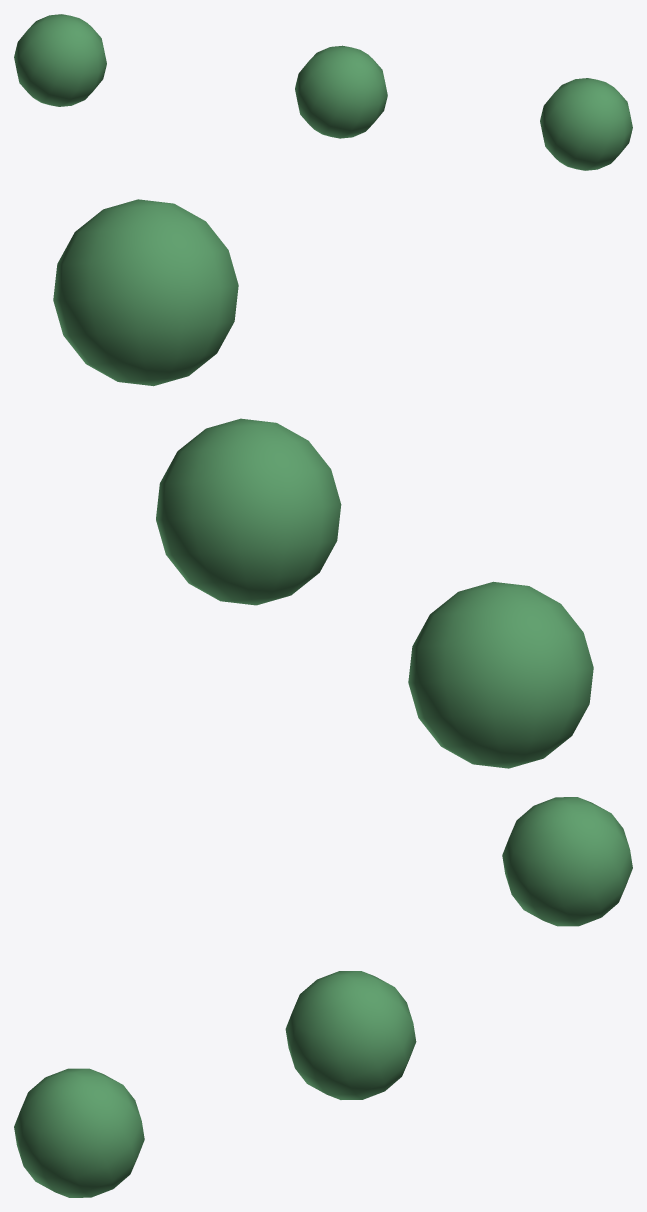
The picture shows the model from 3 angles, top to bottom: view 1: azimuth 30°, elevation 25°; view 2: azimuth 150°, elevation 25°; view 3: azimuth 270°, elevation 25°; orthographic projection. The views are drawn at different scales.
Visible parts, largest first — view 1: 左侧腹股沟浅淋巴结上外侧群; view 2: 左侧腹股沟浅淋巴结上外侧群; view 3: 左侧腹股沟浅淋巴结上外侧群.
Part boxes in pixels (box(x1,y1,x2,y2)): 左侧腹股沟浅淋巴结上外侧群: box(14, 14, 632, 170); 左侧腹股沟浅淋巴结上外侧群: box(53, 199, 593, 768); 左侧腹股沟浅淋巴结上外侧群: box(14, 797, 632, 1197).
Bounding box in the file's own units: 0.0204 × 0.00493 × 0.018.
